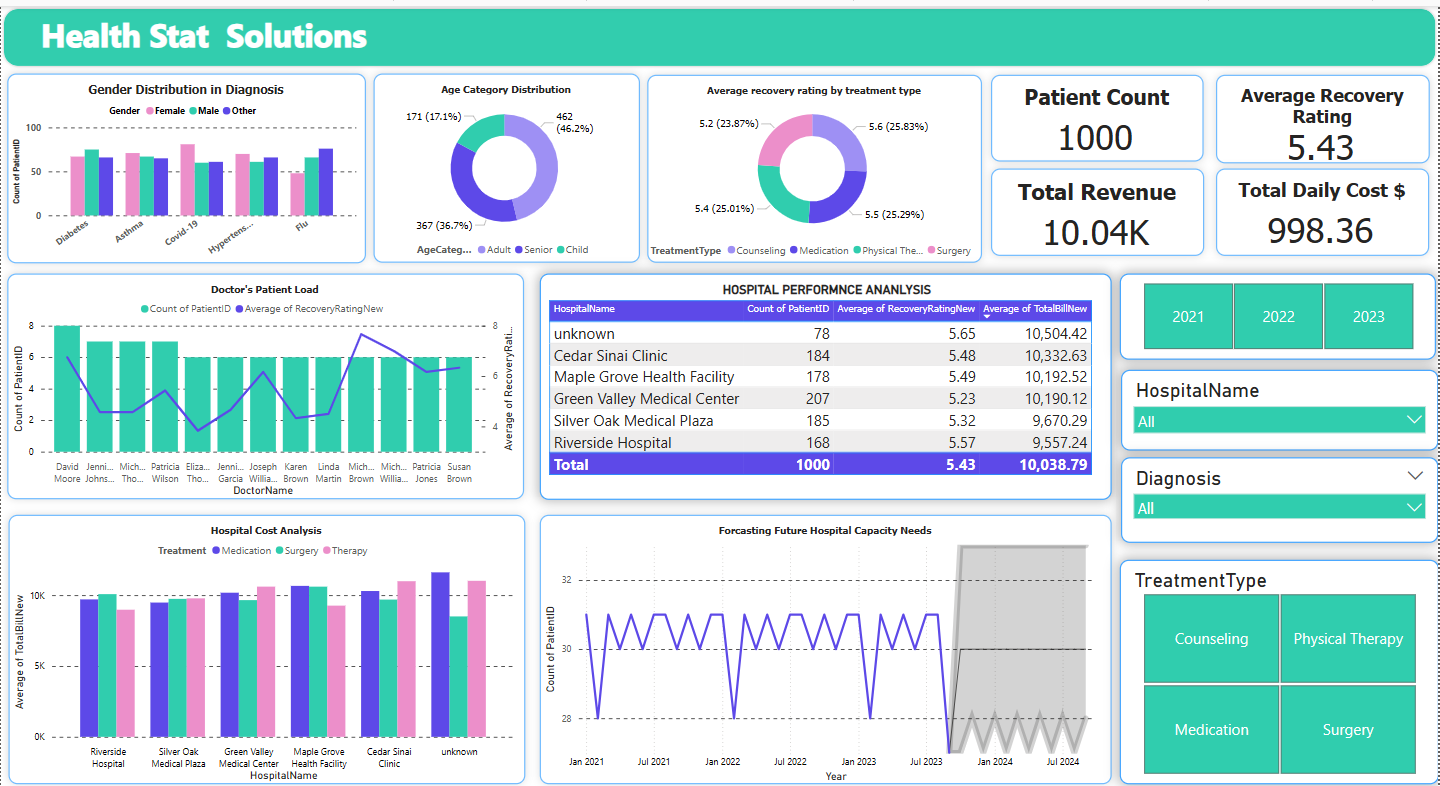

The page's visual inventory and layout, read from the dashboard file:
{"tool":"powerbi","page":{"name":"Dashboard","canvas":[1920,1080],"ordinal":12},"visuals":[{"type":"clusteredColumnChart","title":"Gender Distribution in Diagnosis","fields":{"Category":["Merged data.Diagnosis"],"Y":["Merged data.PatientID"],"Series":["Merged data.Gender"]},"box":[9.1,90,479.1,253.6],"z":0},{"type":"donutChart","title":"Age Category Distribution","fields":{"Category":["Merged data.AgeCategory"],"Y":["Merged data.AgeCategory"]},"box":[497.1,90,355.7,252.9],"z":1000},{"type":"donutChart","title":"Average recovery rating by treatment type","fields":{"Category":["Merged data.TreatmentType"],"Y":["MeasureTable.AvgRecoveryRating"]},"box":[862.9,91.4,447.1,251.4],"z":2000},{"type":"lineStackedColumnComboChart","title":"Doctor''s Patient Load","fields":{"Category":["Merged data.DoctorName"],"Y":["Merged data.PatientID"],"Y2":["Merged data.RecoveryRatingNew"]},"box":[8.6,357.1,690,301.4],"z":3000},{"type":"tableEx","title":"HOSPITAL PERFORMNCE ANANLYSIS","fields":{"Values":["Merged data.HospitalName","Merged data.PatientID","Merged data.RecoveryRatingNew","Merged data.TotalBillNew"]},"box":[720,358,764,302],"z":4000},{"type":"shape","box":[0,0,1920,84],"z":5000},{"type":"textbox","box":[48,4,1344,76],"z":6000},{"type":"clusteredColumnChart","title":"Hospital Cost Analysis","fields":{"Category":["Merged data.HospitalName"],"Y":["Merged data.TotalBillNew"],"Series":["Merged data.Treatment"]},"box":[10,680,690,360],"z":7000},{"type":"lineChart","title":"Forcasting Future Hospital Capacity Needs","fields":{"Y":["Merged data.PatientID"],"Category":["Merged data.AdmissionDate.Variation.Date Hierarchy.Year","Merged data.AdmissionDate.Variation.Date Hierarchy.Quarter","Merged data.AdmissionDate.Variation.Date Hierarchy.Month"]},"box":[720,680,764,360],"z":8000},{"type":"card","title":"Patient Count","fields":{"Values":["Merged data.PatientID"]},"box":[1322,92,284,116],"z":9000},{"type":"card","title":"Average Recovery Rating","fields":{"Values":["MeasureTable.AvgRecoveryRating"]},"box":[1622.9,91.4,285.7,118.6],"z":10000},{"type":"card","title":"Total Revenue","fields":{"Values":["Merged data.TotalBillNew"]},"box":[1321.7,216.7,285,116.7],"z":11000},{"type":"card","title":"Total Daily Cost $","fields":{"Values":["Merged data.DailyCost"]},"box":[1623.3,216.7,285,116.7],"z":12000},{"type":"slicer","fields":{"Values":["Merged data.AdmissionDate.Variation.Date Hierarchy.Year"]},"box":[1495,357.5,422.5,115],"z":13000},{"type":"slicer","fields":{"Values":["Merged data.HospitalName"]},"box":[1496,486,424,108],"z":14000},{"type":"slicer","fields":{"Values":["Merged data.Diagnosis"]},"box":[1496,602,424,114],"z":15000},{"type":"slicer","fields":{"Values":["Merged data.TreatmentType"]},"box":[1494,740,426,300],"z":16000}]}

Visuals, with their boxes on the page's 1920x1080 design canvas (x1, y1, x2, y2). These are canvas units, not pixel positions in the 1440x786 screenshot, which may show the page scaled, cropped or inside an application window:
"Gender Distribution in Diagnosis" clusteredColumnChart: locate(9, 90, 488, 344)
"Age Category Distribution" donutChart: locate(497, 90, 853, 343)
"Average recovery rating by treatment type" donutChart: locate(863, 91, 1310, 343)
"Doctor''s Patient Load" lineStackedColumnComboChart: locate(9, 357, 699, 658)
"HOSPITAL PERFORMNCE ANANLYSIS" tableEx: locate(720, 358, 1484, 660)
shape: locate(0, 0, 1920, 84)
textbox: locate(48, 4, 1392, 80)
"Hospital Cost Analysis" clusteredColumnChart: locate(10, 680, 700, 1040)
"Forcasting Future Hospital Capacity Needs" lineChart: locate(720, 680, 1484, 1040)
"Patient Count" card: locate(1322, 92, 1606, 208)
"Average Recovery Rating" card: locate(1623, 91, 1909, 210)
"Total Revenue" card: locate(1322, 217, 1607, 333)
"Total Daily Cost $" card: locate(1623, 217, 1908, 333)
slicer - Merged data.AdmissionDate.Variation.Date Hierarchy.Year: locate(1495, 358, 1918, 472)
slicer - Merged data.HospitalName: locate(1496, 486, 1920, 594)
slicer - Merged data.Diagnosis: locate(1496, 602, 1920, 716)
slicer - Merged data.TreatmentType: locate(1494, 740, 1920, 1040)
